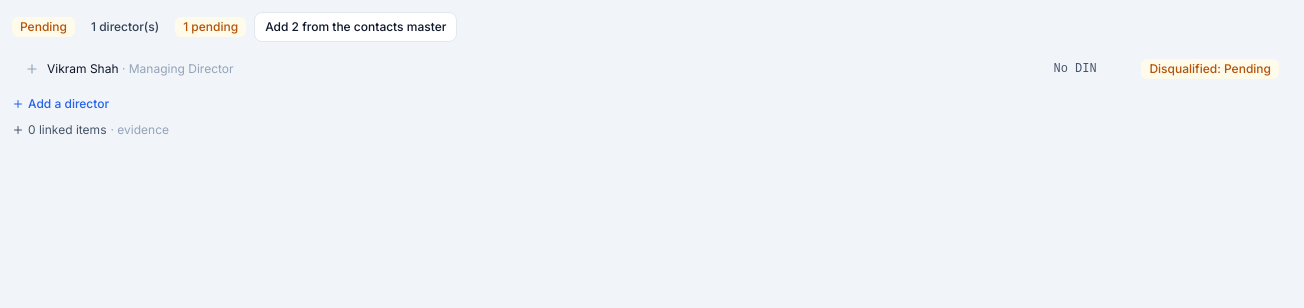
Test: 02.7 Section 164(2) directors › rejects a DIN that is not 8 digits before it reaches the server
Click the button "Add a director" at (61, 104), box [12,96,109,112]
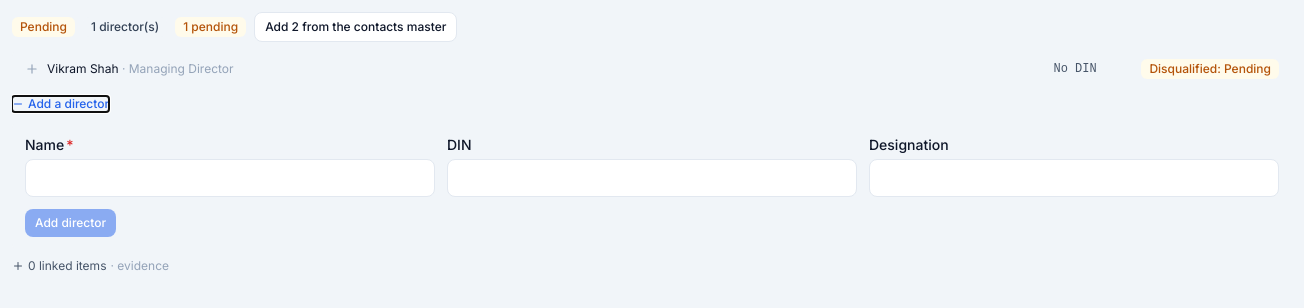
Type "New Director" into the field named "Director name" at (230, 178), box [25,159,435,197]
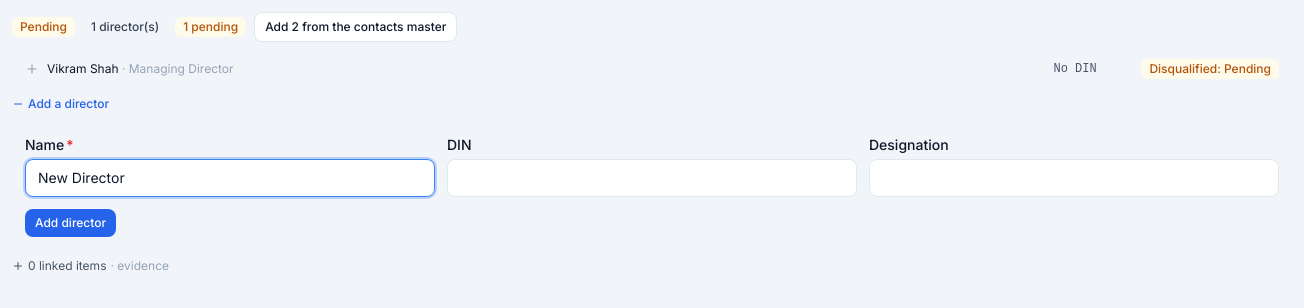
Type "123" into the field labelled "DIN" at (652, 178), box [447,159,857,197]
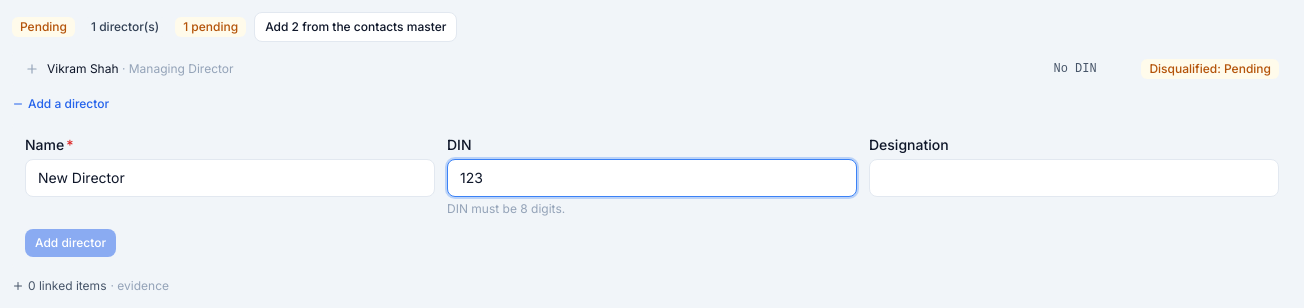
Expected: the text "DIN must be 8 digits." is shown, [447,201,565,216]
Expected: the button "Add director" is disabled, [25,229,116,257]
